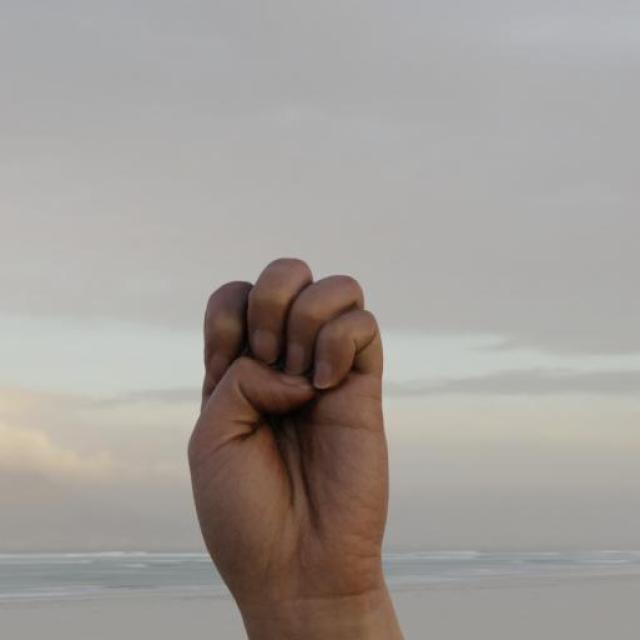E: (184, 251, 394, 604)
